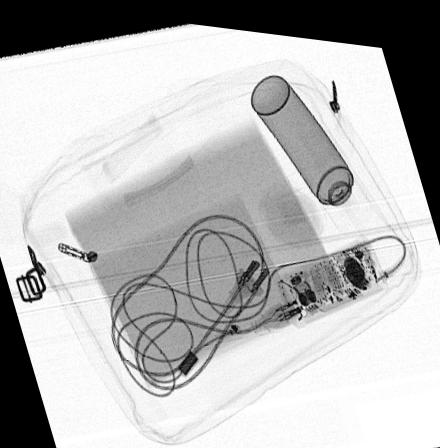Sprayer: (250, 68, 375, 226)
